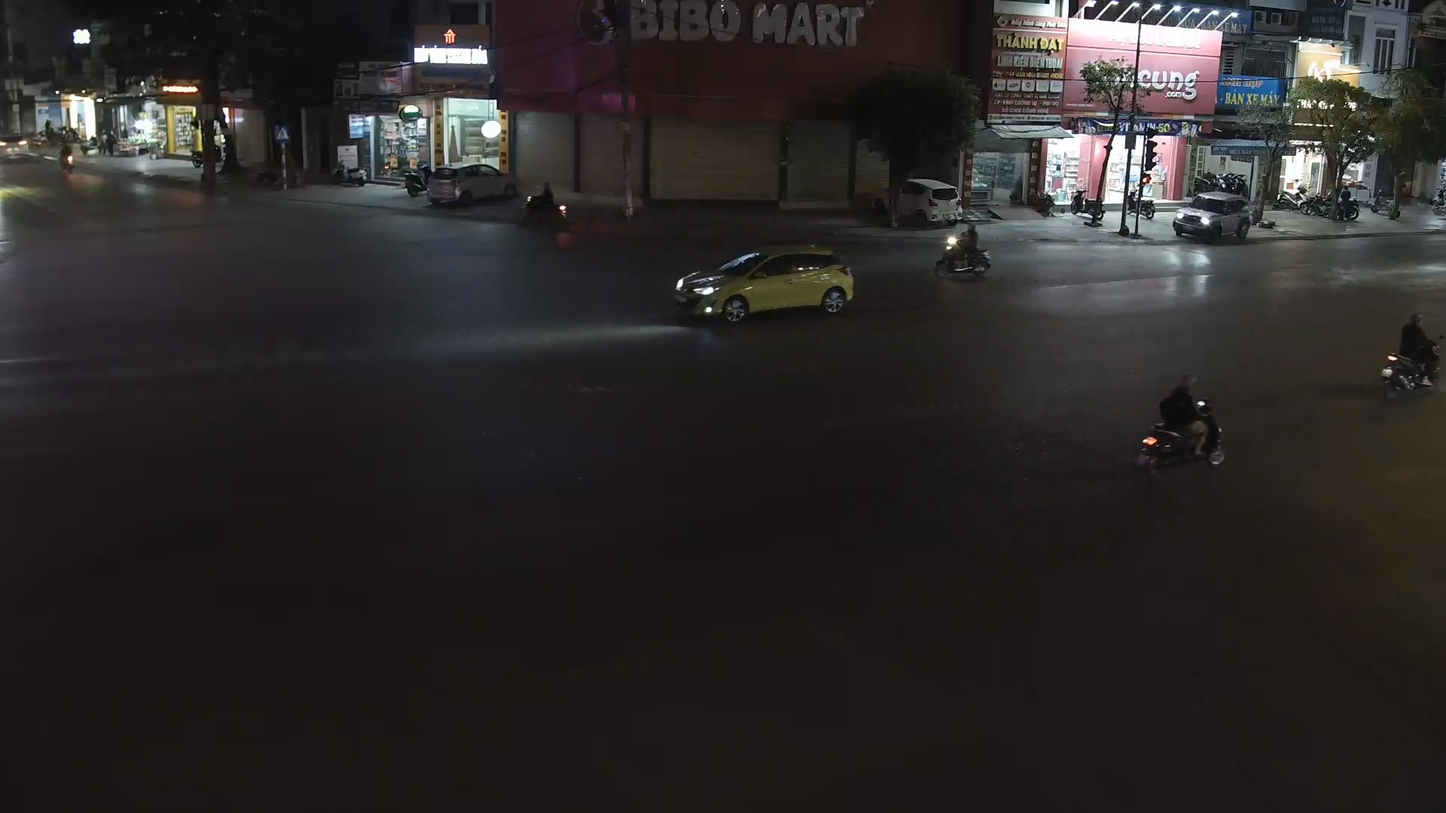car: (672, 244, 856, 324), (1170, 190, 1252, 245)
motorbike: (1135, 371, 1228, 478), (1379, 311, 1445, 400), (932, 223, 993, 281)
